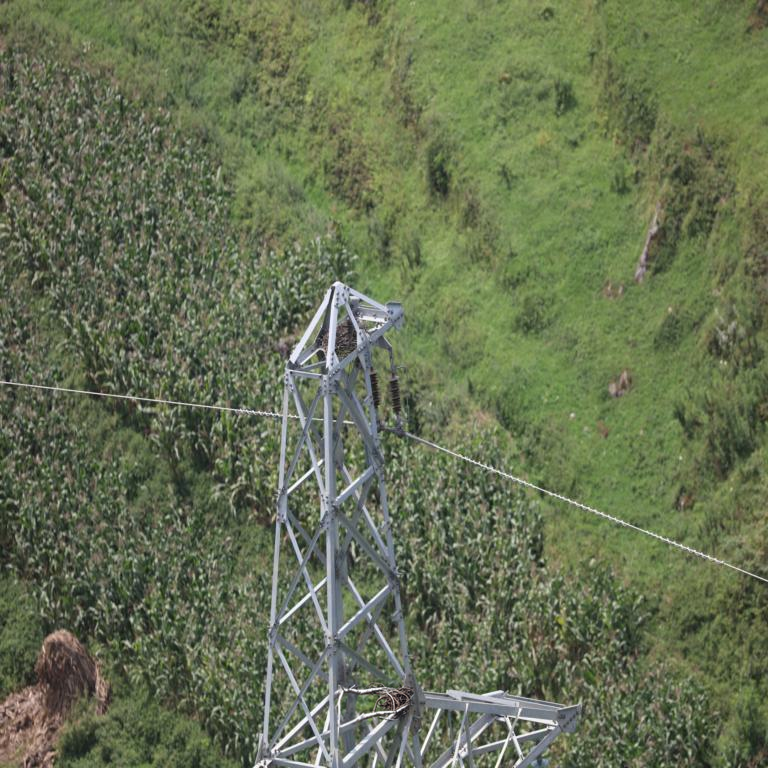nest: (323, 327, 373, 364), (373, 685, 413, 719)
